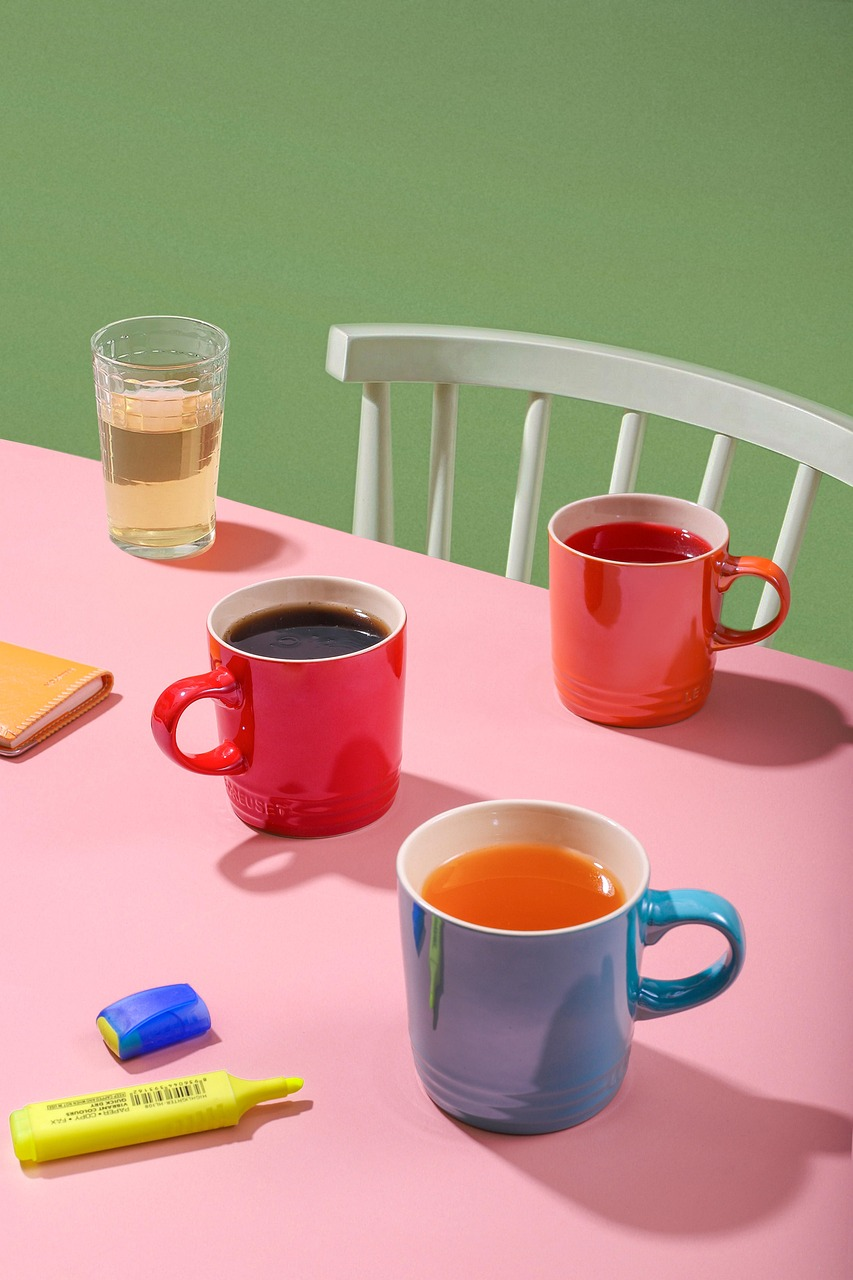mug: (347, 772, 789, 1182), (132, 543, 442, 870), (503, 487, 801, 752)
